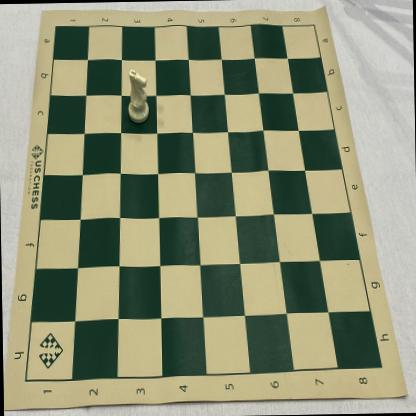knight: (126, 67, 150, 124)
